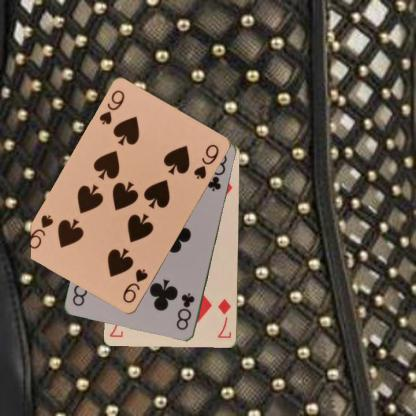7d: (215, 297, 233, 340)
8c: (173, 290, 196, 332)
9s: (120, 266, 150, 305), (96, 88, 126, 126)
